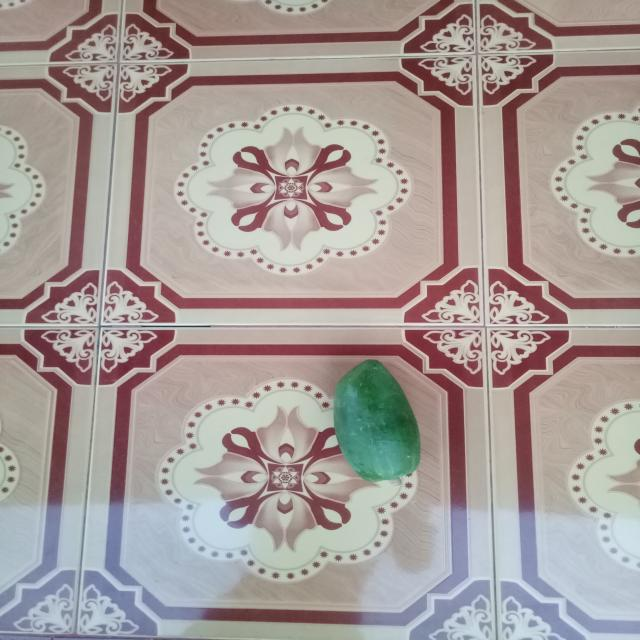Pepaya unrippen: (331, 358, 429, 488)
